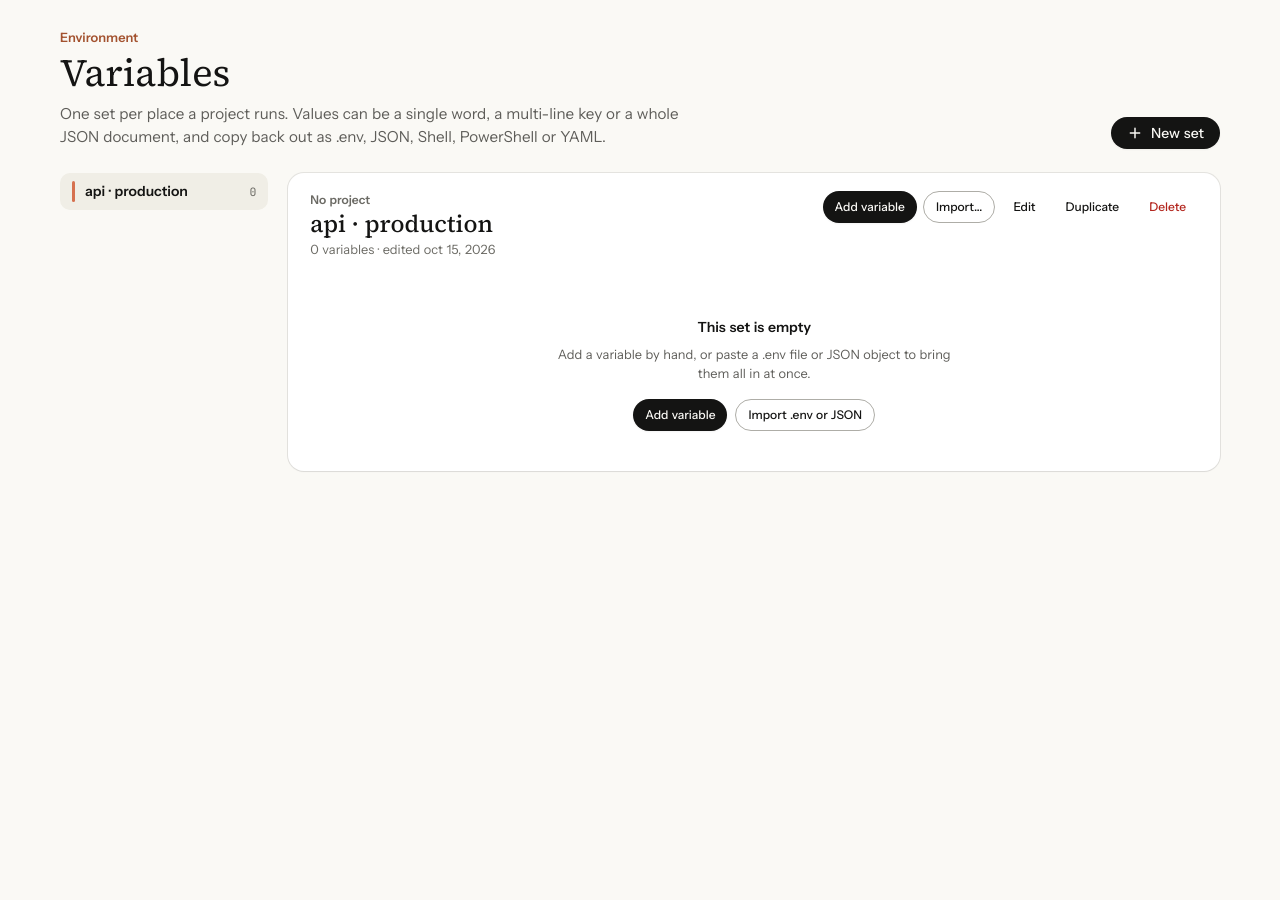
Test: EnvPage › refuses a key no platform accepts before sending it
The image size is (1280, 900).
Click the button "Add variable" in the row of "No project" at (870, 207), box [823,191,917,223]
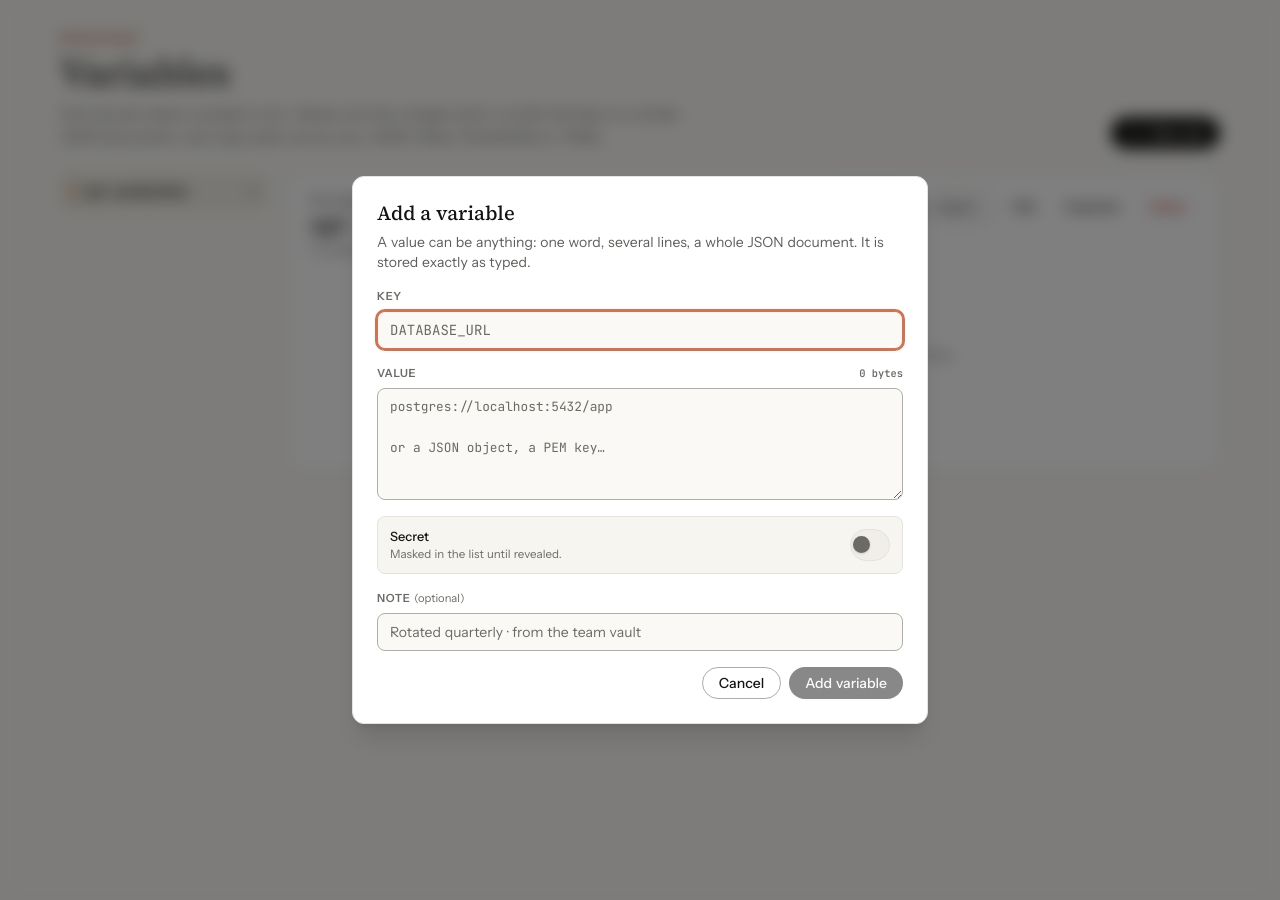
Type "TWO WORDS" into the field labelled "Key" at (640, 330), box [377,311,903,349]
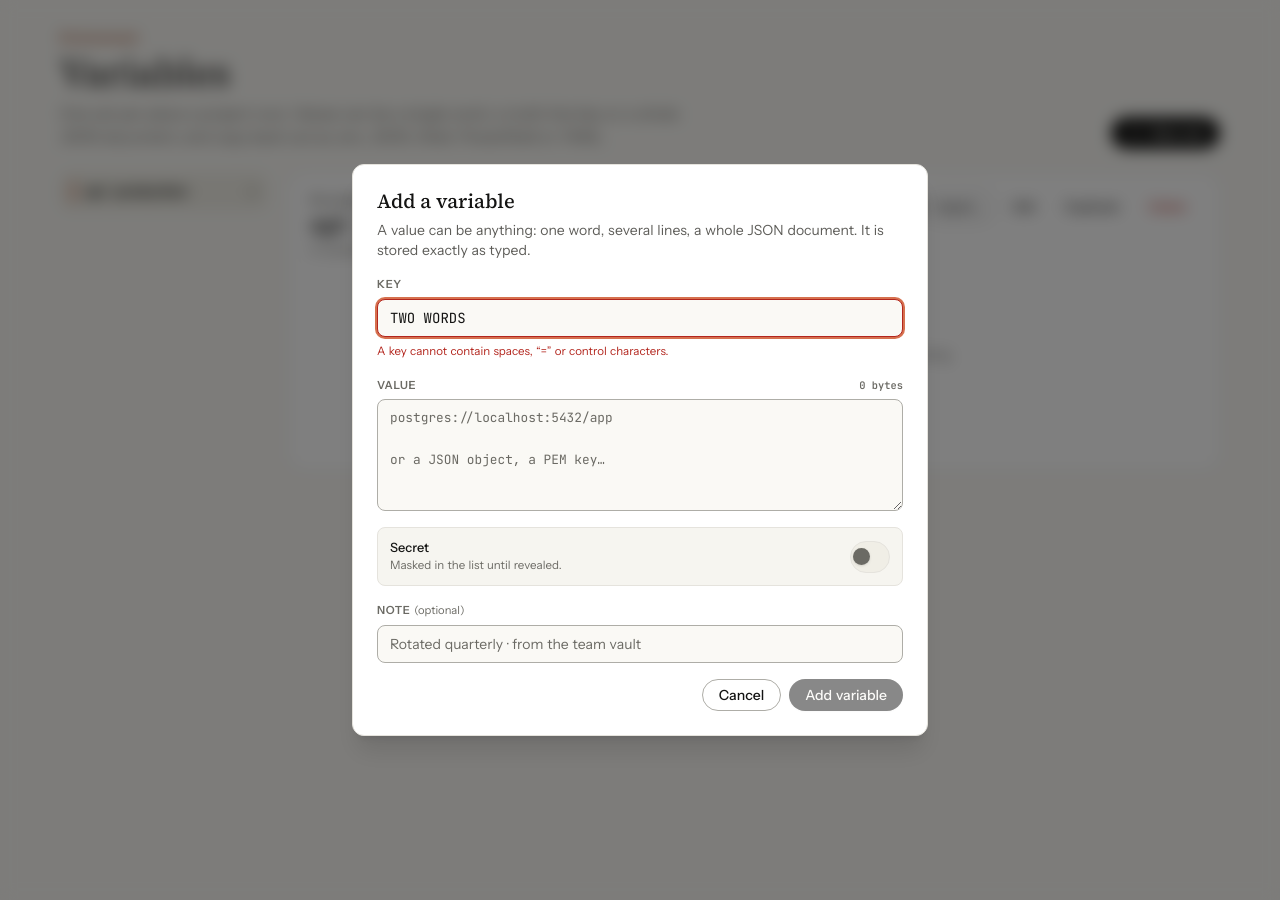
Expected: the button "Add variable" is disabled, [789,678,903,710]
Expected: the text "A key cannot contain spaces, “=” or control characters." is shown, [377,344,668,358]
